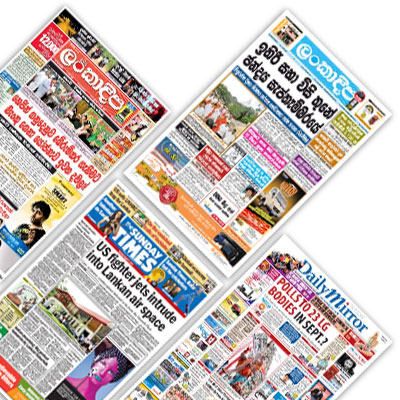news_paper: (114, 1, 396, 305), (72, 197, 395, 400), (1, 163, 245, 398), (1, 1, 184, 304)
